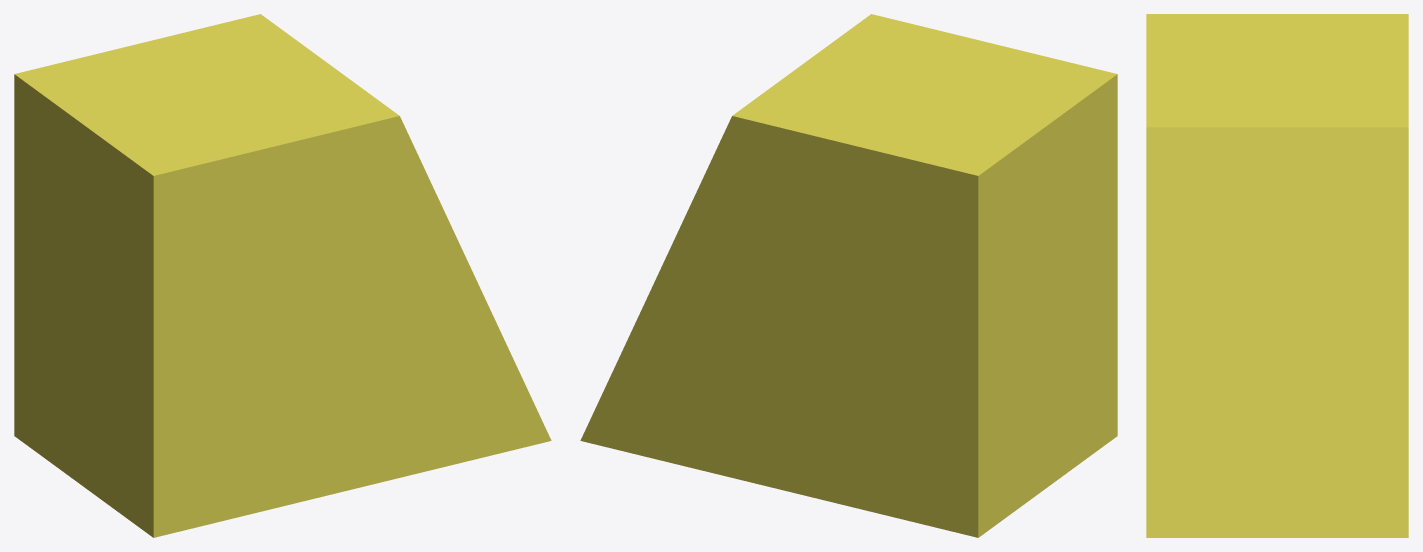
Rendered from Porte_Toit.fbx.
The picture shows the model from 3 angles, left to right: view 1: azimuth 30°, elevation 25°; view 2: azimuth 150°, elevation 25°; view 3: azimuth 270°, elevation 25°; orthographic projection. The views are drawn at different scales.
Parts seen in each view (by area): view 1: Porte_toit; view 2: Porte_toit; view 3: Porte_toit.
Boxes of the visible parts, x1,y1,x2,y2 form: Porte_toit: [14, 14, 551, 537]; Porte_toit: [580, 14, 1117, 537]; Porte_toit: [1146, 14, 1408, 537].
Bounding box in the file's own units: 200 × 174 × 121.
